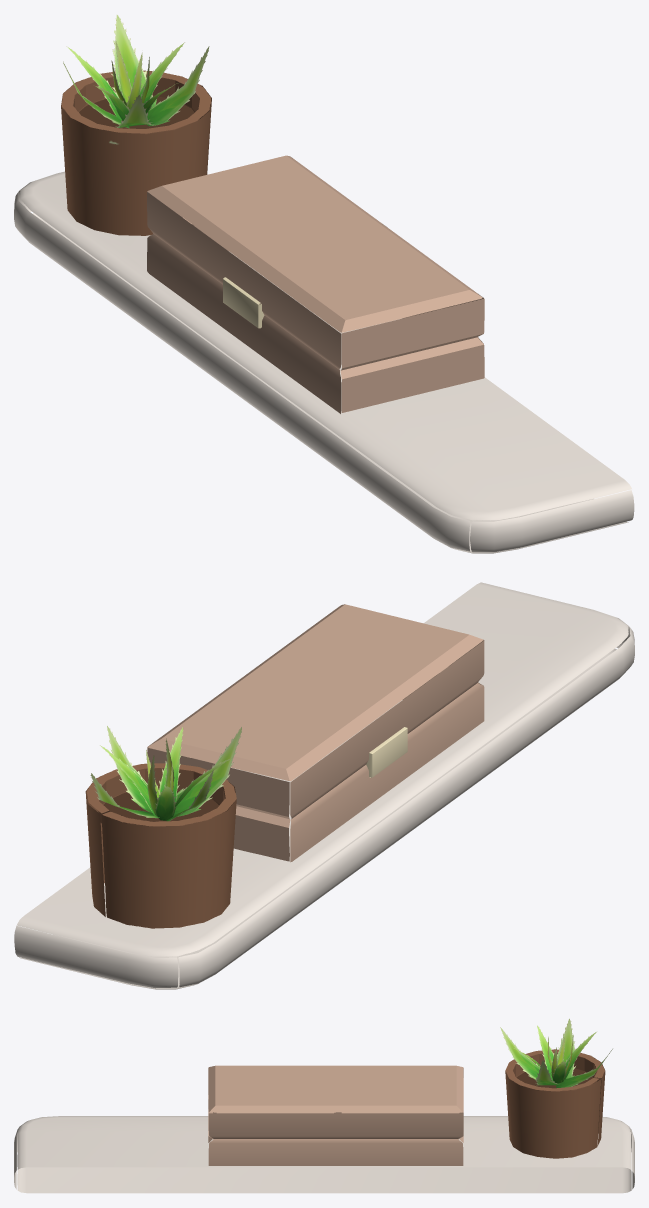
The model's file is 3D_Prop_Shelf.fbx.
The picture shows the model from 3 angles, top to bottom: view 1: azimuth 30°, elevation 25°; view 2: azimuth 150°, elevation 25°; view 3: azimuth 270°, elevation 25°; orthographic projection. The views are drawn at different scales.
Visible parts, largest first — view 1: Shelf; view 2: Shelf; view 3: Shelf.
Part boxes in pixels (left/top/right/bottom): Shelf: left=14, top=15, right=634, bottom=553; Shelf: left=14, top=582, right=634, bottom=989; Shelf: left=14, top=1018, right=634, bottom=1193.
Bounding box in the file's own units: 61.88 × 69.18 × 295.
